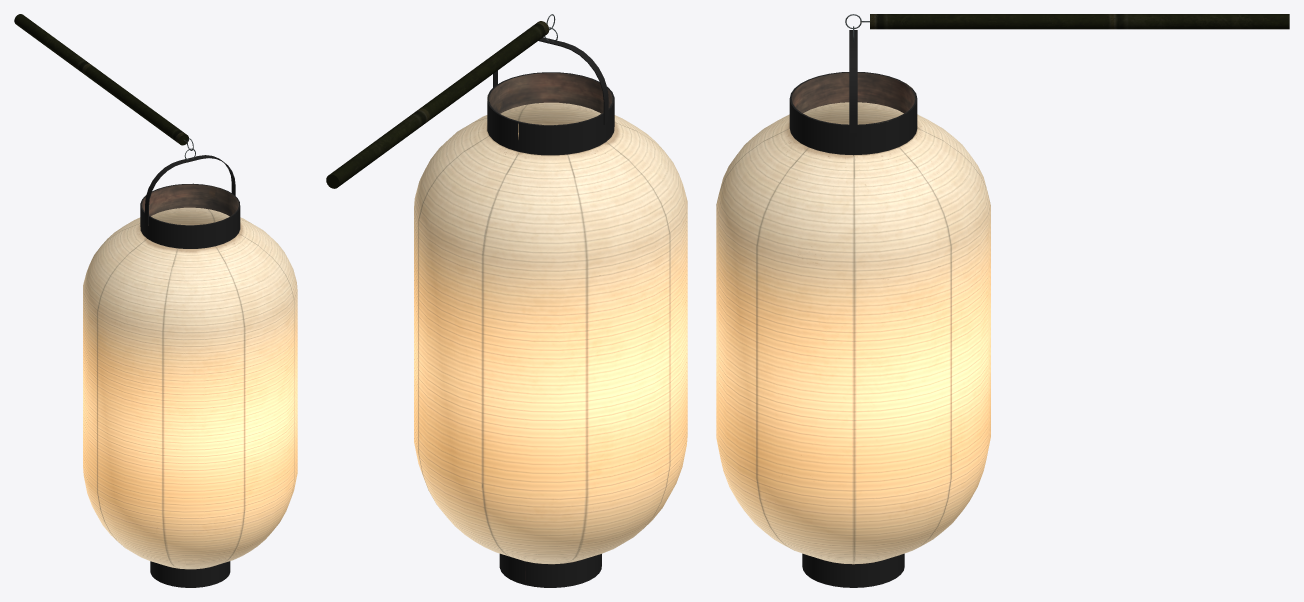
File: japanese_lantern.glb
3 views of the same model, side by side, from view 1: azimuth 30°, elevation 25°; view 2: azimuth 150°, elevation 25°; view 3: azimuth 270°, elevation 25° (orthographic). The views are drawn at different scales.
Parts seen in each view (by area): view 1: Lantern_01_low_0, Lantern_05_low_9, Lantern_02_low_1; view 2: Lantern_01_low_0, Lantern_05_low_9, Lantern_02_low_1; view 3: Lantern_01_low_0, Lantern_05_low_9, Lantern_02_low_1.
Part boxes in pixels (x1,y1,x2,y2): Lantern_01_low_0: (83, 183, 297, 587); Lantern_05_low_9: (14, 14, 188, 145); Lantern_02_low_1: (145, 155, 235, 225); Lantern_01_low_0: (414, 72, 687, 587); Lantern_05_low_9: (326, 21, 549, 188); Lantern_02_low_1: (493, 37, 608, 124); Lantern_01_low_0: (716, 72, 990, 587); Lantern_05_low_9: (870, 14, 1289, 29); Lantern_02_low_1: (849, 30, 857, 136).
Size of the model in its own units: 0.3 by 0.6654 by 0.6264.
Materials: 1 (1 with a texture image).
